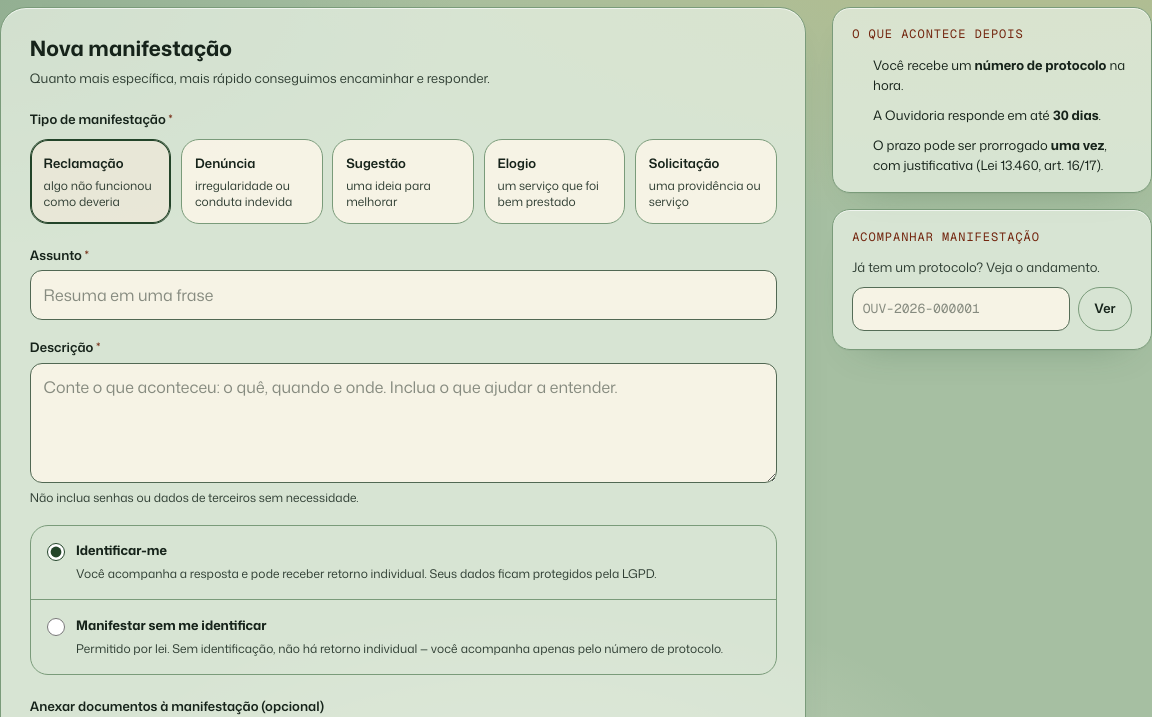
Scenario: formulários do cidadão › ouvidoria: sem se identificar vai anonima=true e o recibo avisa que só o protocolo acompanha
Click the radio button labelled "Sugestão uma ideia para melhorar": click(403, 181) x1=332 y1=139 x2=474 y2=224
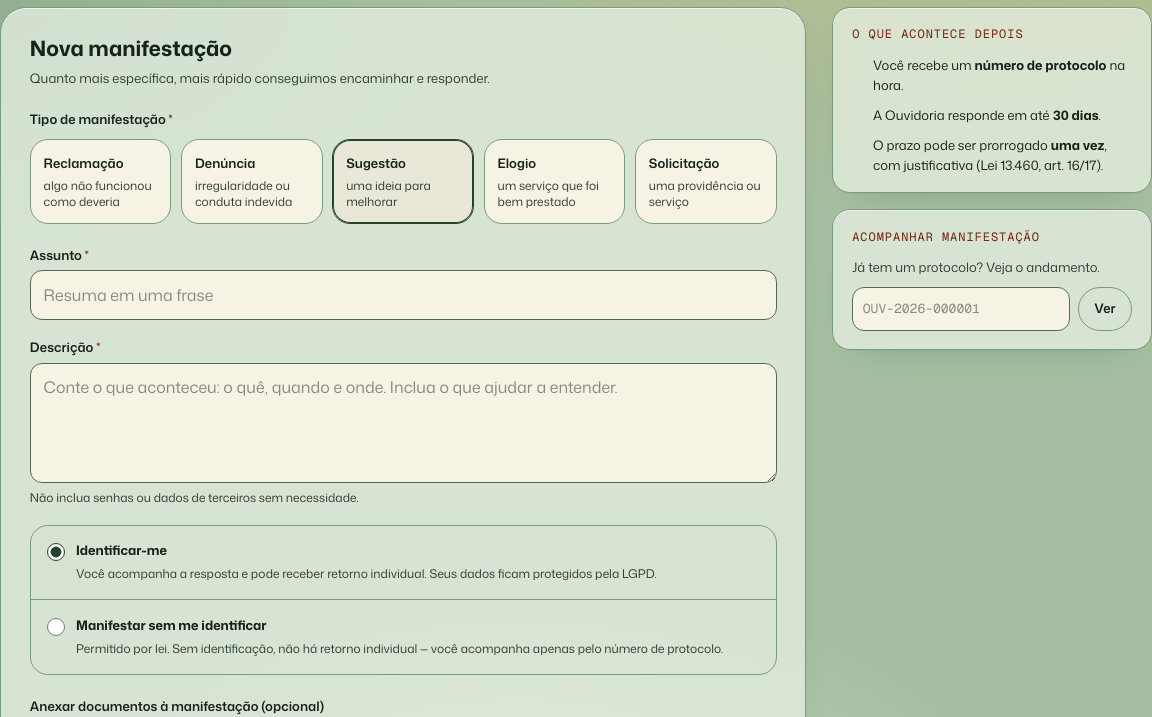
In the field labelled "Assunto *": (403, 295) x1=30 y1=270 x2=777 y2=320, type "Horário"
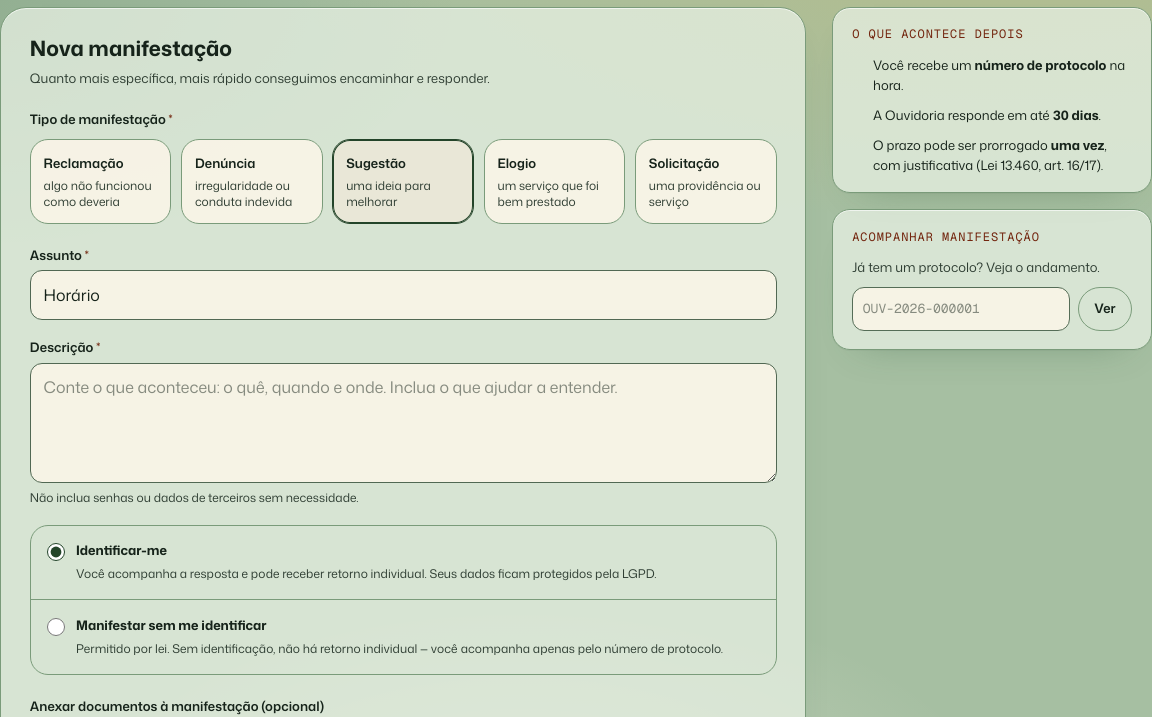
Replace the text in the text box labelled "Descrição *" with "Abrir mais cedo.": (403, 423) x1=30 y1=363 x2=777 y2=483
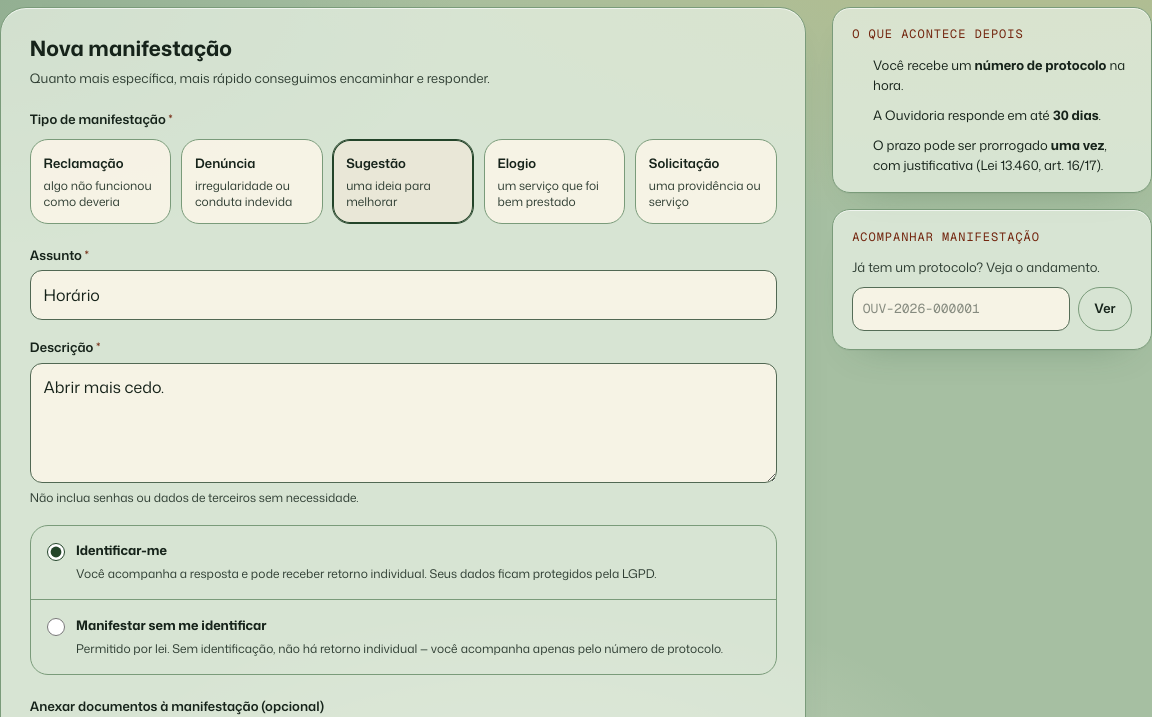
Click the radio button labelled "Manifestar sem me identificar": click(56, 627) x1=47 y1=618 x2=65 y2=636
(page scrolled)
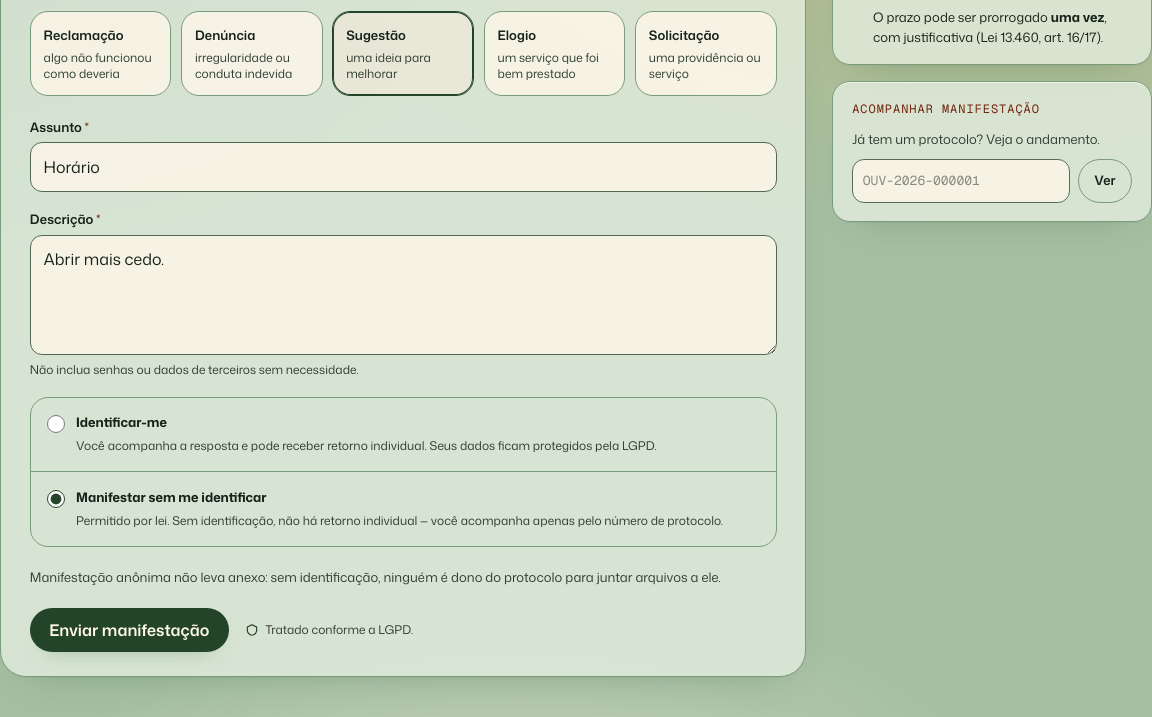
Click the button "Enviar manifestação": click(129, 630) x1=30 y1=608 x2=229 y2=652
(page scrolled)
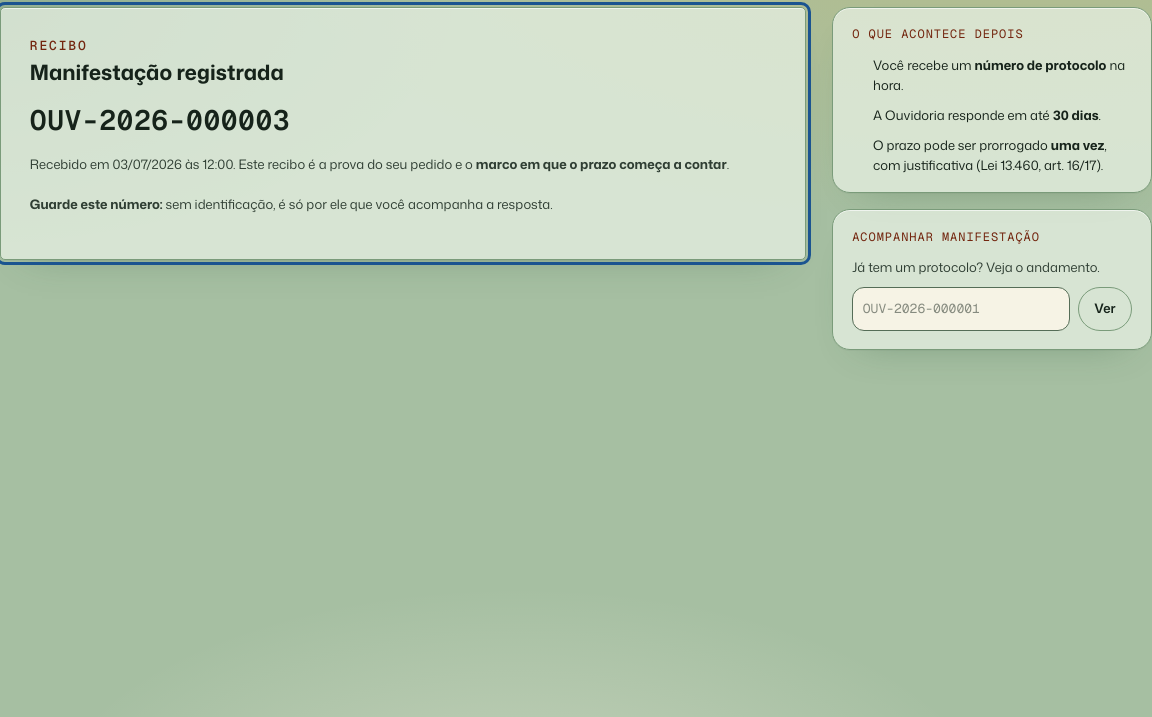
Expected: the text "OUV-2026-000003" is shown, x1=30 y1=102 x2=290 y2=138
Expected: the text "Guarde este número:" is shown, x1=30 y1=195 x2=162 y2=213
